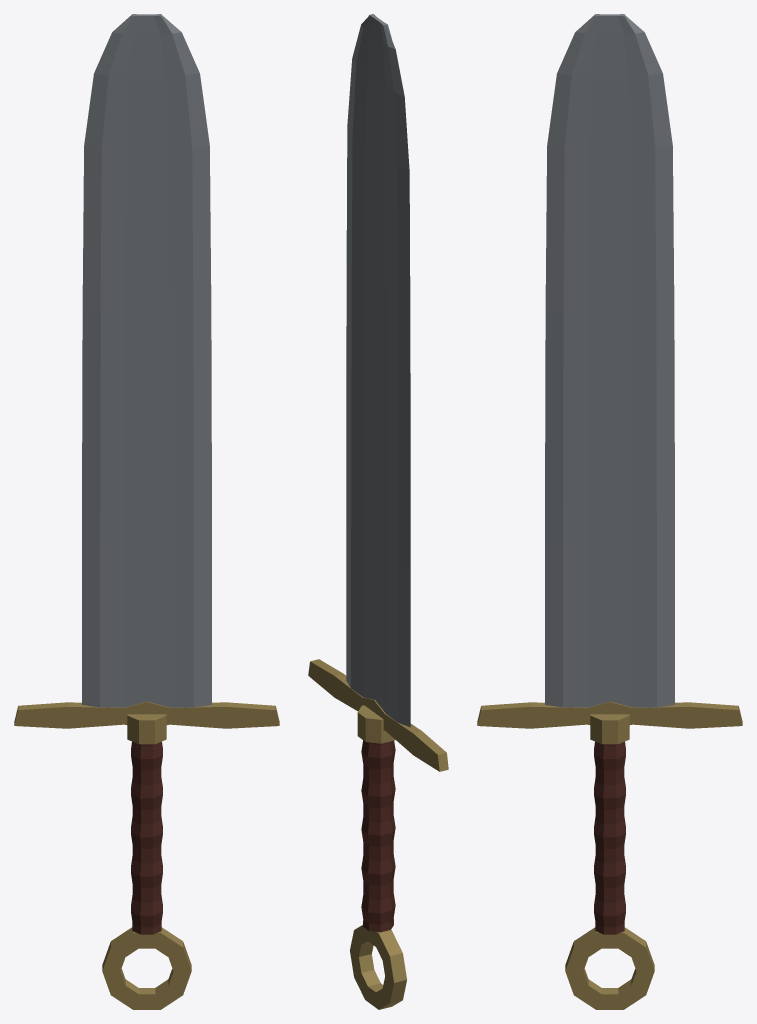
File: WP_Greatsword_02.glb
The picture shows the model from 3 angles, left to right: view 1: azimuth 90°, elevation 25°; view 2: azimuth 210°, elevation 25°; view 3: azimuth 270°, elevation 25°; orthographic projection.
Visible parts, largest first — view 1: WP_Greatsword_02; view 2: WP_Greatsword_02; view 3: WP_Greatsword_02.
Part boxes in pixels (x1=…): WP_Greatsword_02: x1=14, y1=14, x2=279, y2=1009; WP_Greatsword_02: x1=308, y1=14, x2=448, y2=1009; WP_Greatsword_02: x1=477, y1=14, x2=742, y2=1009.
Bounding box in the file's own units: 0.0517 × 1.44 × 0.35.
